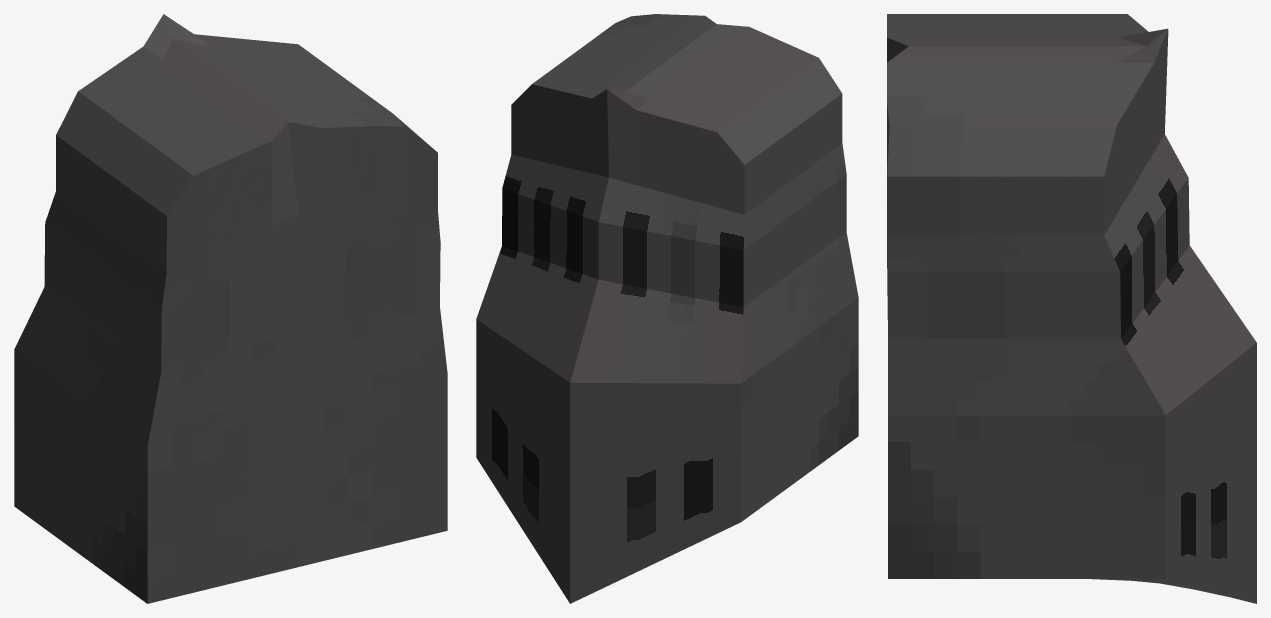
File: knightHead.fbx
3 views of the same model, side by side, from view 1: azimuth 30°, elevation 25°; view 2: azimuth 150°, elevation 25°; view 3: azimuth 270°, elevation 25° (orthographic). The views are drawn at different scales.
Parts seen in each view (by area): view 1: Cube; view 2: Cube; view 3: Cube.
Part boxes in pixels (x1,y1,x2,y2): Cube: (14,14,447,603); Cube: (476,14,858,603); Cube: (887,14,1256,603).
Size of the model in its own units: 159 by 280 by 163.
1 material, 1 textured.
